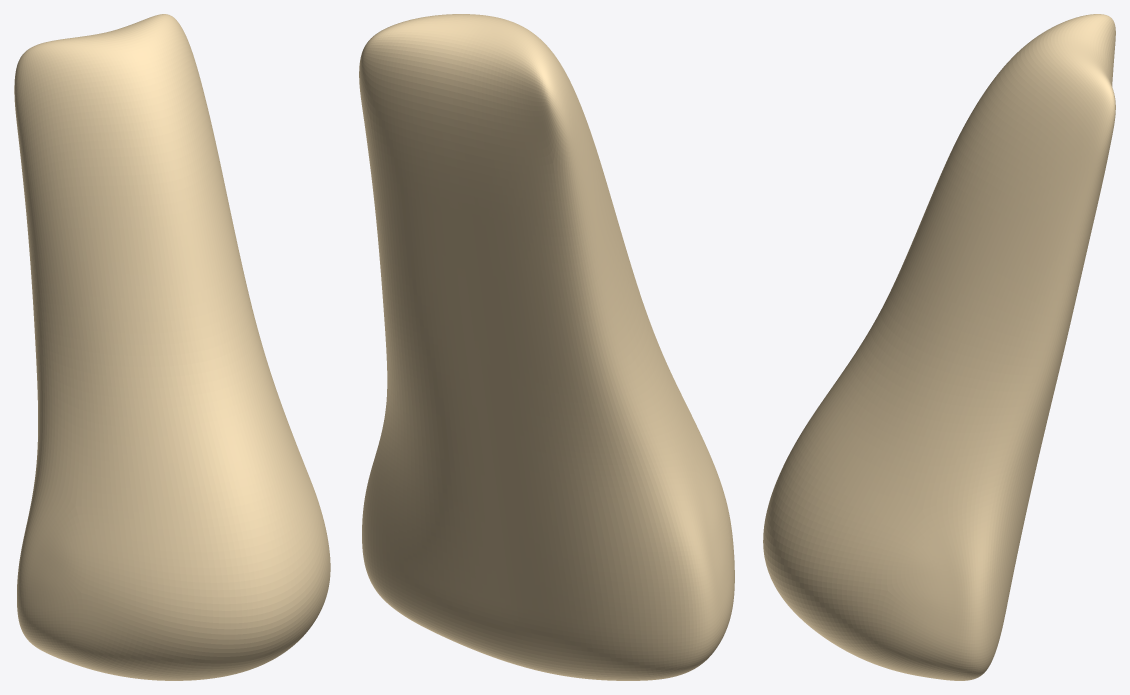
File: sakuhin_nose 1.fbx
The picture shows the model from 3 angles, left to right: view 1: azimuth 30°, elevation 25°; view 2: azimuth 150°, elevation 25°; view 3: azimuth 270°, elevation 25°; orthographic projection. The views are drawn at different scales.
Parts seen in each view (by area): view 1: Cube.001; view 2: Cube.001; view 3: Cube.001.
Part boxes in pixels (box(x1,y1,x2,y2)): Cube.001: box(14, 14, 330, 680); Cube.001: box(359, 14, 734, 680); Cube.001: box(763, 14, 1115, 680).
Size of the model in its own units: 49.22 by 92.95 by 48.67.
